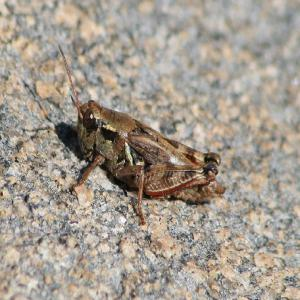locust: (61, 47, 214, 228)
